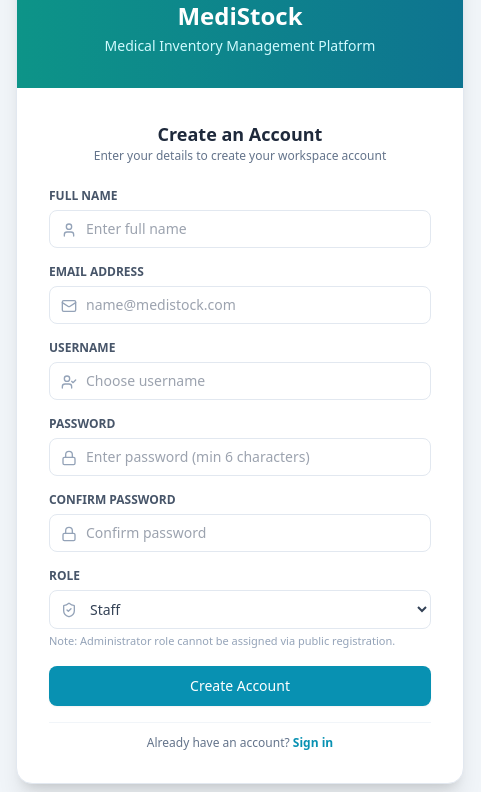
Test: MediStock Frontend Components › Create Account Page (Register) › validates required fields on empty submit
The width and height of the screenshot is (481, 792).
(page scrolled)
Click the button "Create Account". click: coordinates (240, 686)
box: top-left (49, 666), bottom-right (431, 706)
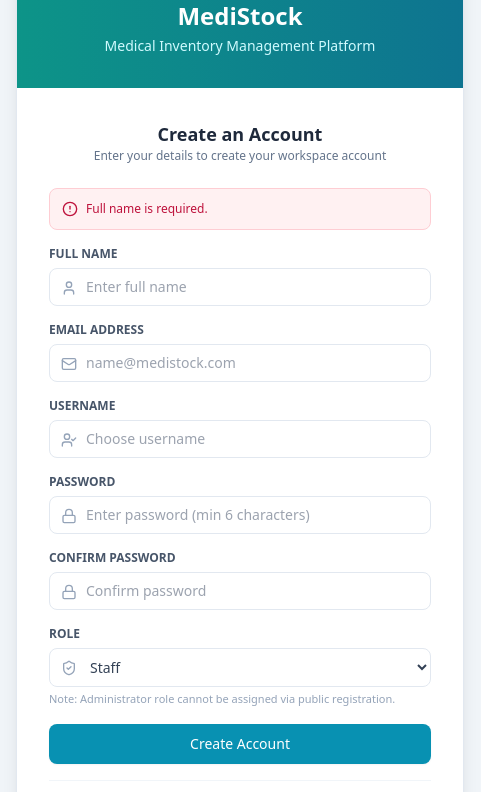
expect the text "Full name is required." is shown: met, box top-left (86, 201), bottom-right (208, 217)
